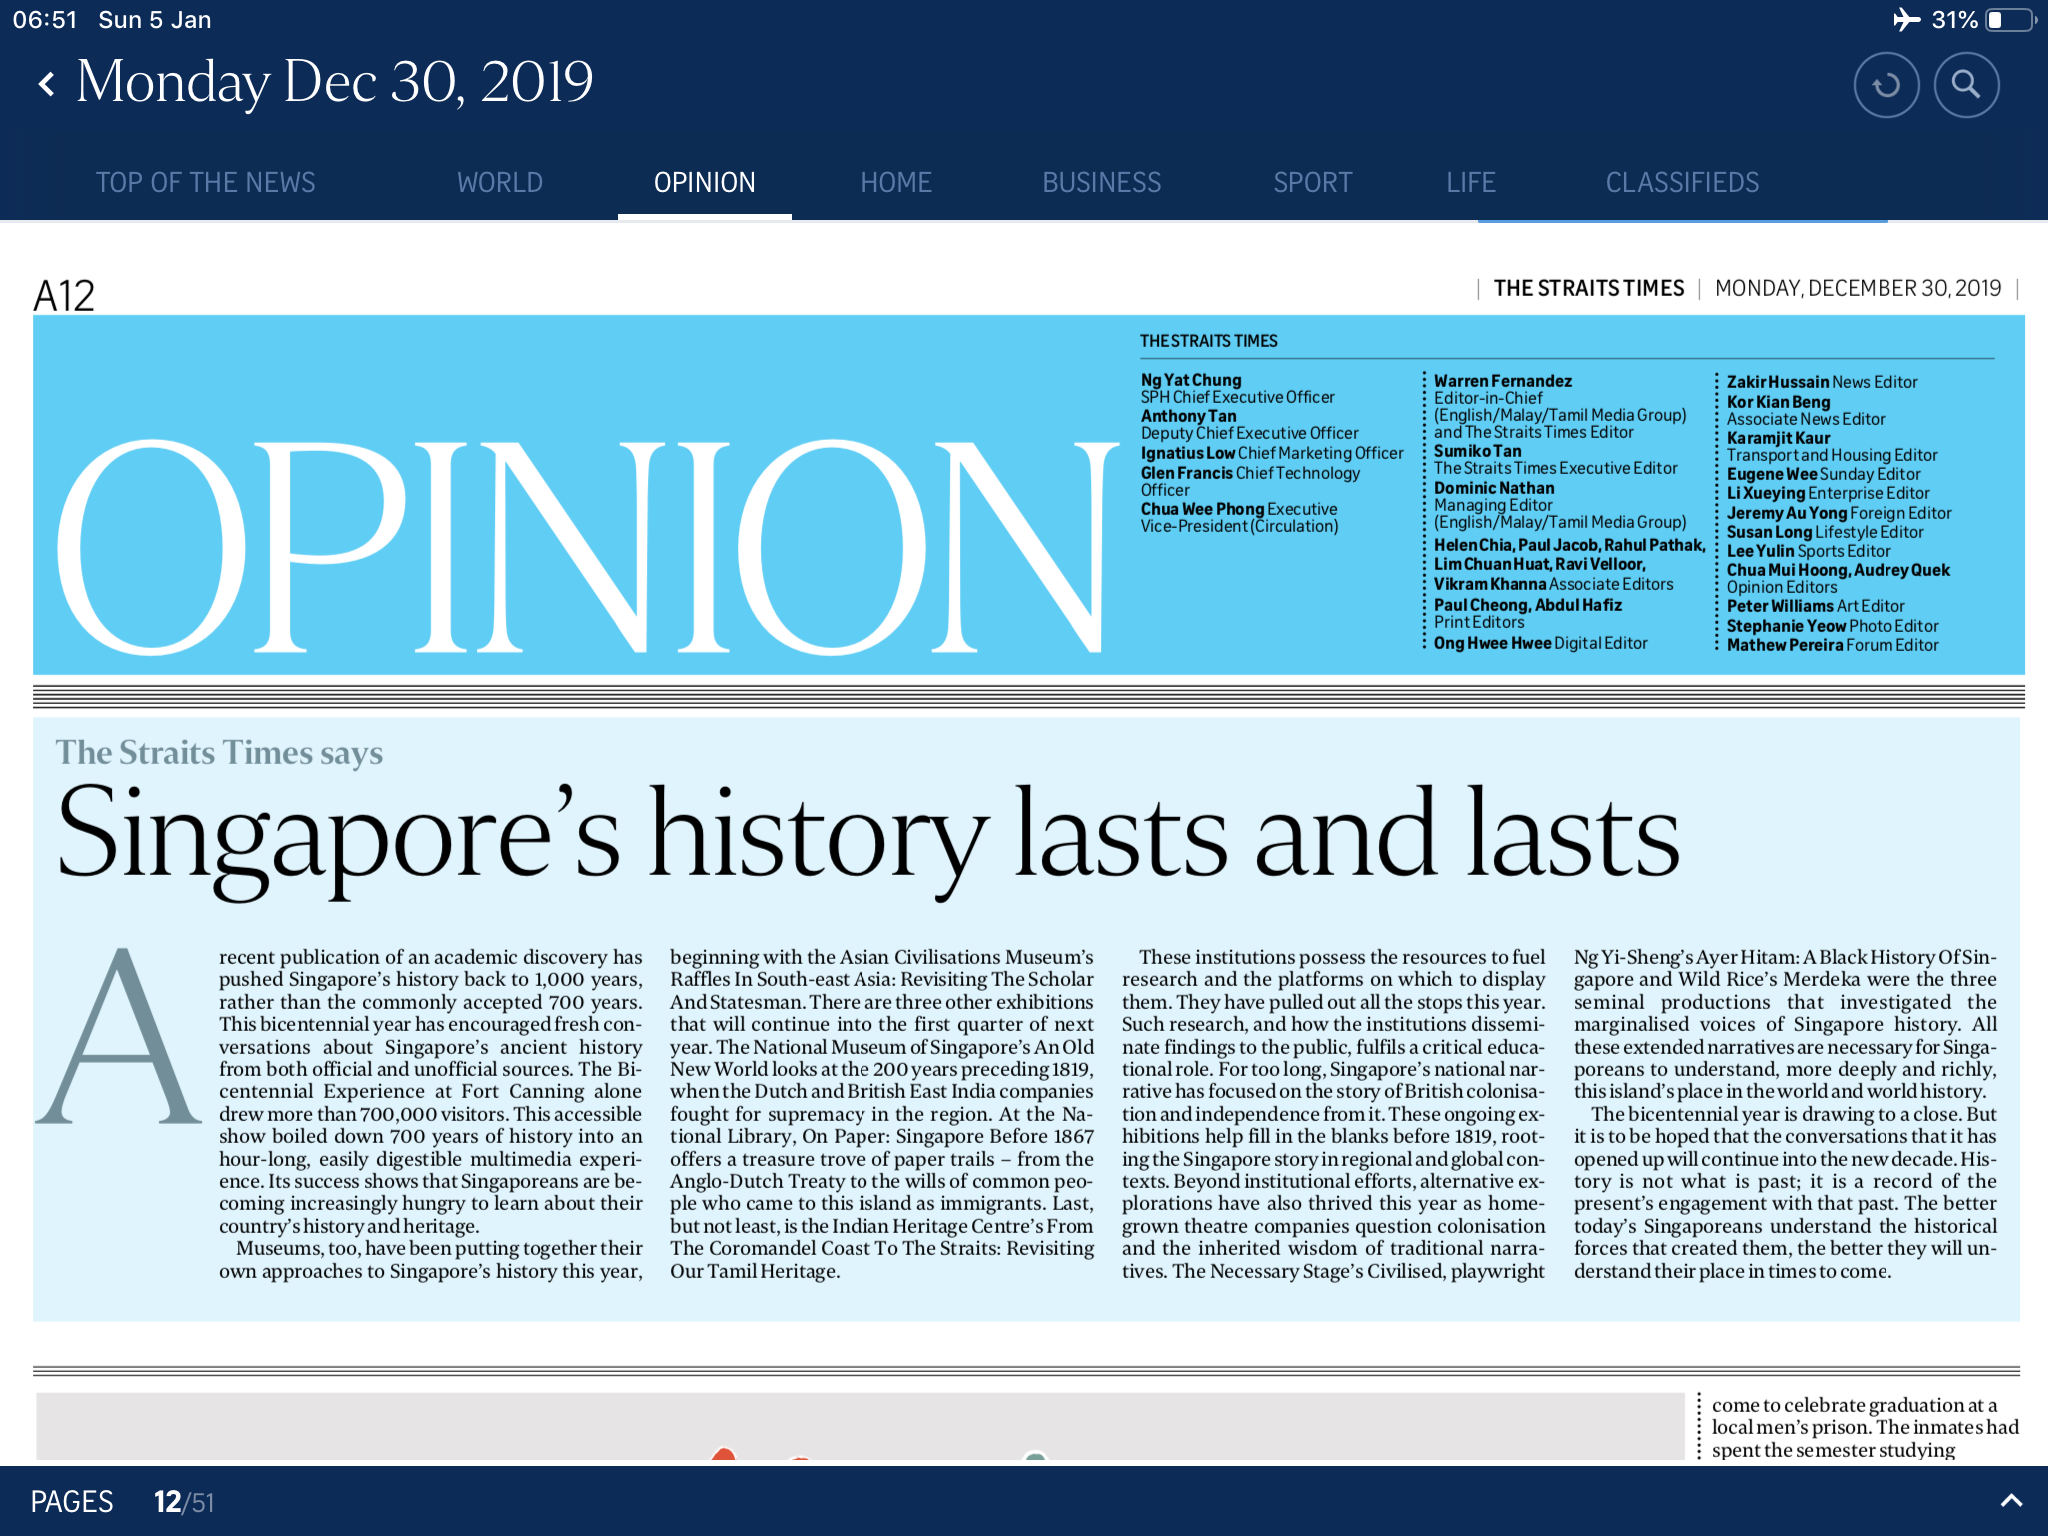Headline: (47, 771, 1687, 913)
Text: (31, 929, 651, 1297), (1561, 941, 2008, 1299), (1111, 939, 1546, 1294), (660, 942, 1105, 1288), (1426, 361, 1713, 658), (1721, 365, 1963, 662), (1130, 361, 1413, 545), (1706, 1394, 2022, 1463)
